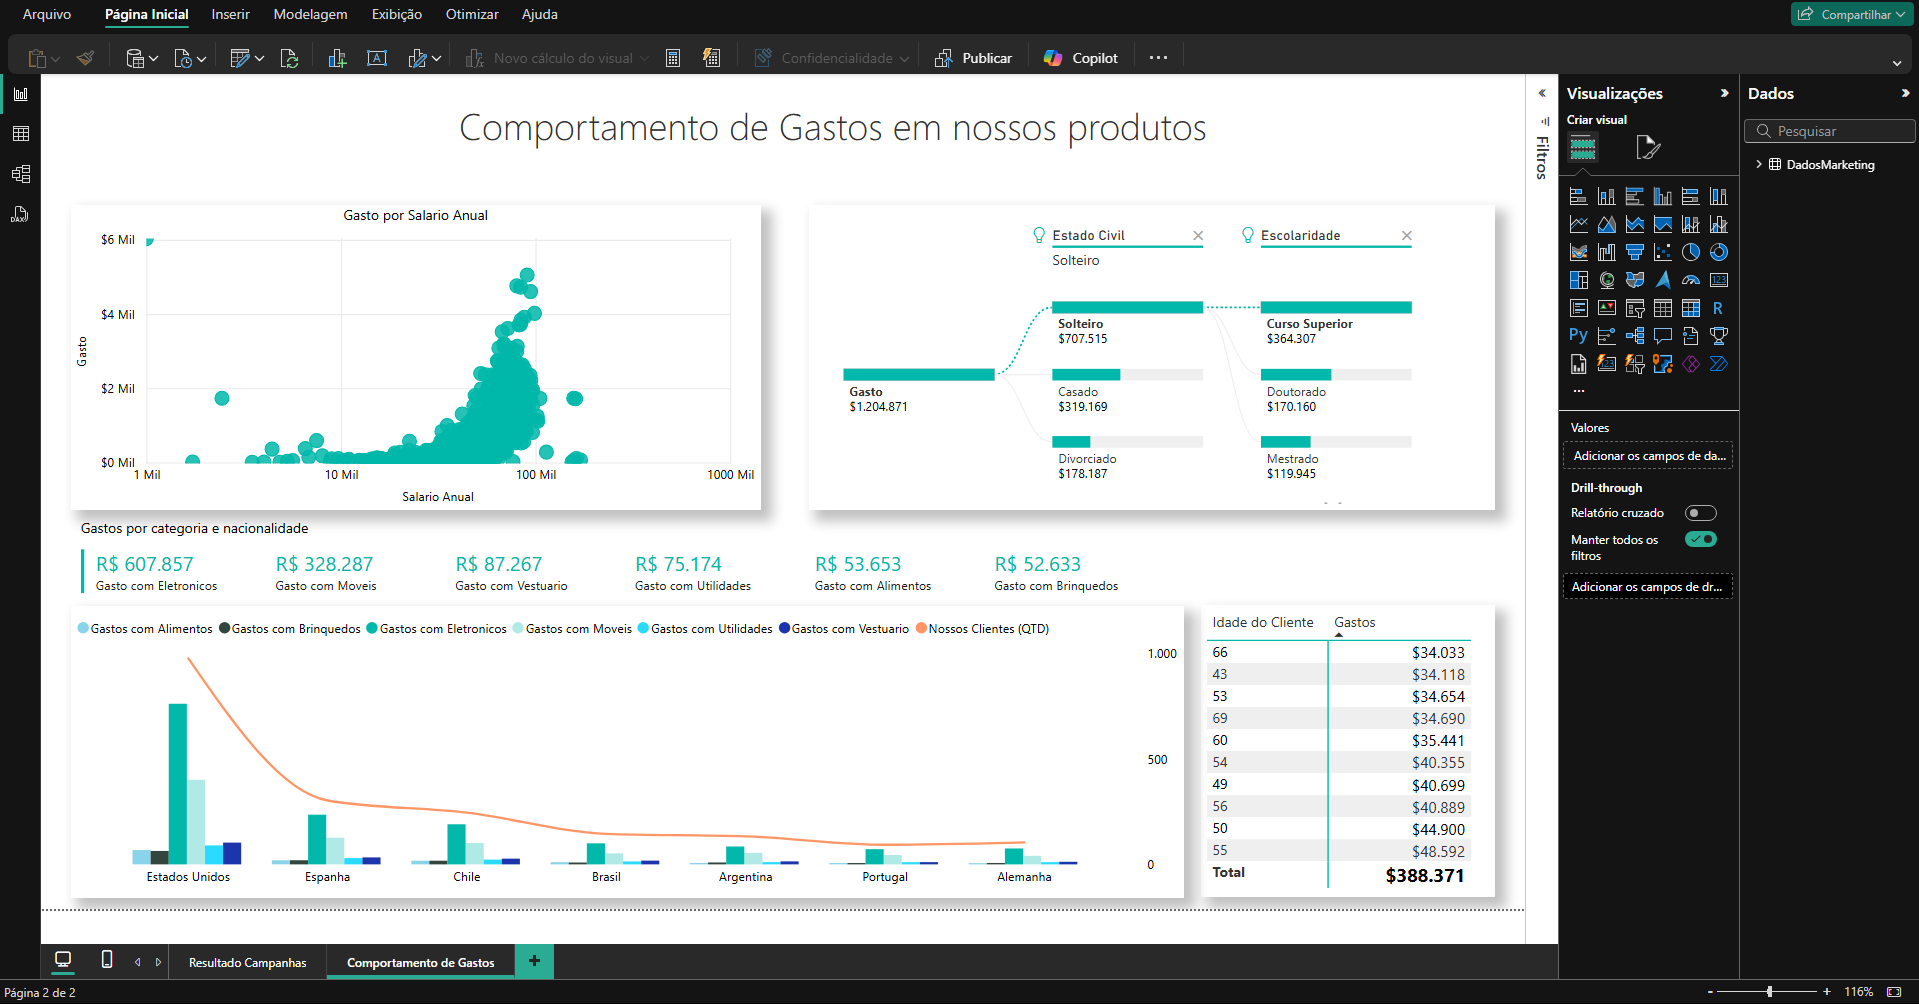

What the dashboard file says about the page in this screenshot:
{"tool":"powerbi","page":{"name":"Comportamento de Gastos","canvas":[1280,720],"ordinal":1},"visuals":[{"type":"scatterChart","fields":{"X":["DadosMarketing.Salario Anual"],"Y":["DadosMarketing.TotalGasto"]},"box":[25.9,112.8,594.7,263.1],"z":0},{"type":"lineClusteredColumnComboChart","fields":{"Category":["DadosMarketing.Pais"],"Y":["Sum(DadosMarketing.Gasto com Alimentos)","Sum(DadosMarketing.Gasto com Brinquedos)","Sum(DadosMarketing.Gasto com Eletronicos)","Sum(DadosMarketing.Gasto com Moveis)","Sum(DadosMarketing.Gasto com Utilidades)","Sum(DadosMarketing.Gasto com Vestuario)"],"Y2":["CountNonNull(DadosMarketing.ID)"]},"box":[26,459.2,959.6,251.5],"z":1000},{"type":"textbox","box":[334.4,17.1,696.8,79.3],"z":2000},{"type":"decompositionTreeVisual","fields":{"Analyze":["DadosMarketing.TotalGasto"],"ExplainBy":["DadosMarketing.Estado Civil","DadosMarketing.Escolaridade"]},"box":[662.4,112.8,592.2,263.1],"z":3000},{"type":"pivotTable","fields":{"Rows":["DadosMarketing.Idade"],"Values":["DadosMarketing.TotalGasto"]},"box":[1000.4,458.1,254.3,252.4],"z":4000},{"type":"group","id":"g1","title":"Grupo 2","box":[28.9,383,953.3,75.2],"z":5000},{"type":"multiRowCard","title":"Gastos por categoria e nacionalidade","fields":{"Values":["Sum(DadosMarketing.Gasto com Eletronicos)","Sum(DadosMarketing.Gasto com Moveis)","Sum(DadosMarketing.Gasto com Vestuario)","Sum(DadosMarketing.Gasto com Utilidades)","Sum(DadosMarketing.Gasto com Alimentos)","Sum(DadosMarketing.Gasto com Brinquedos)"]},"box":[28.9,383,953.3,75.2],"z":7001,"group":"g1"}]}

Visuals, with their boxes on the page's 1280x720 design canvas (x1, y1, x2, y2). These are canvas units, not pixel positions in the 1919x1004 screenshot, which may show the page scaled, cropped or inside an application window:
scatterChart - DadosMarketing.Salario Anual x DadosMarketing.TotalGasto: BBox(26, 113, 621, 376)
lineClusteredColumnComboChart - DadosMarketing.Pais x Sum(DadosMarketing.Gasto com Alimentos): BBox(26, 459, 986, 711)
textbox: BBox(334, 17, 1031, 96)
decompositionTreeVisual - DadosMarketing.TotalGasto x DadosMarketing.Estado Civil: BBox(662, 113, 1255, 376)
pivotTable - DadosMarketing.Idade x DadosMarketing.TotalGasto: BBox(1000, 458, 1255, 710)
"Grupo 2" group: BBox(29, 383, 982, 458)
"Gastos por categoria e nacionalidade" multiRowCard: BBox(29, 383, 982, 458)
